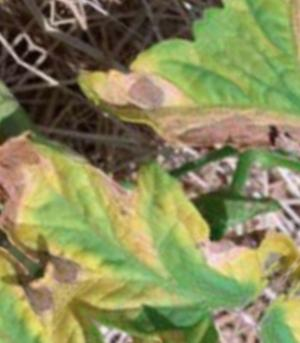Tomato Early blight leaf: (0, 67, 285, 343), (70, 0, 300, 223)
